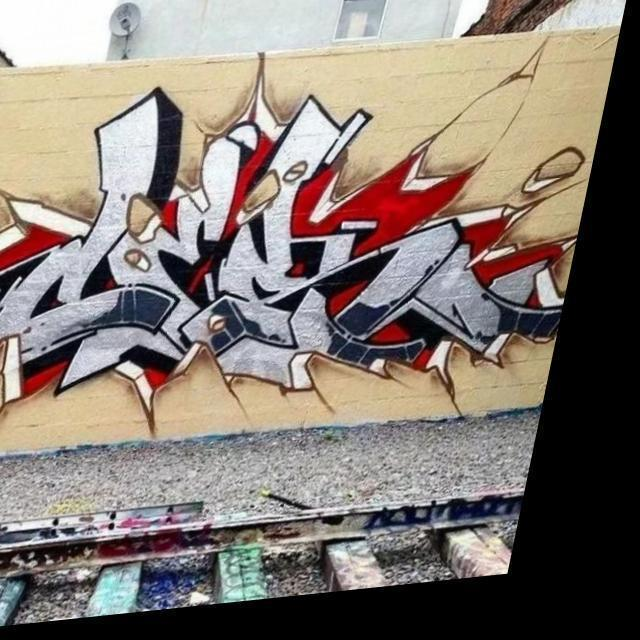nonspitting: (0, 52, 578, 433)
